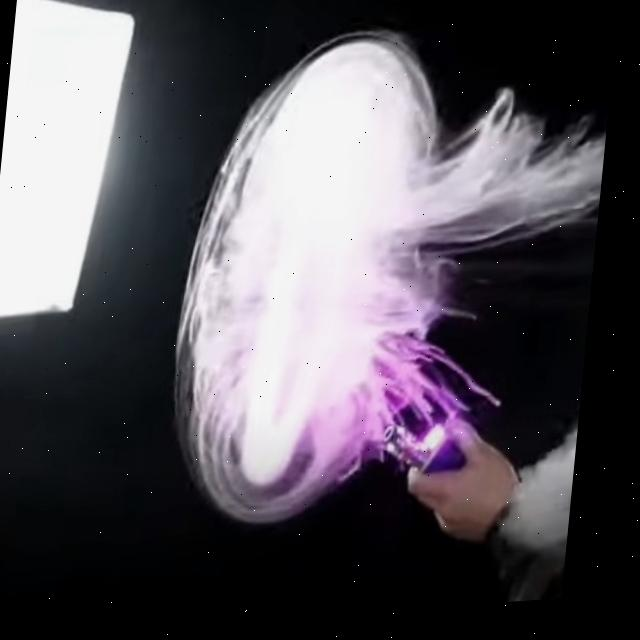vape: (390, 427, 482, 484)
